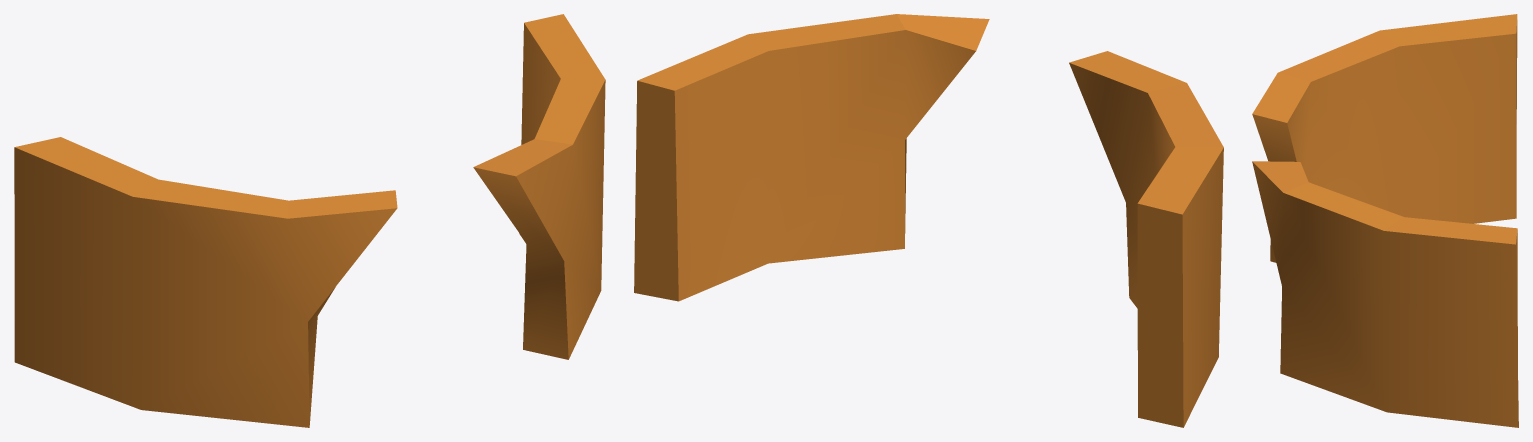
Rendered from mudBrickKilnSectionWithOpening_low.glb.
3 views of the same model, side by side, from view 1: azimuth 30°, elevation 25°; view 2: azimuth 150°, elevation 25°; view 3: azimuth 270°, elevation 25° (orthographic). The views are drawn at different scales.
Visible parts, largest first — view 1: Cube; view 2: Cube; view 3: Cube.
Part boxes in pixels (left/top/right/bottom): Cube: left=14, top=14, right=605, bottom=427; Cube: left=634, top=14, right=1223, bottom=427; Cube: left=1252, top=14, right=1518, bottom=427.
Size of the model in its own units: 1.96 by 0.7329 by 0.9549.
